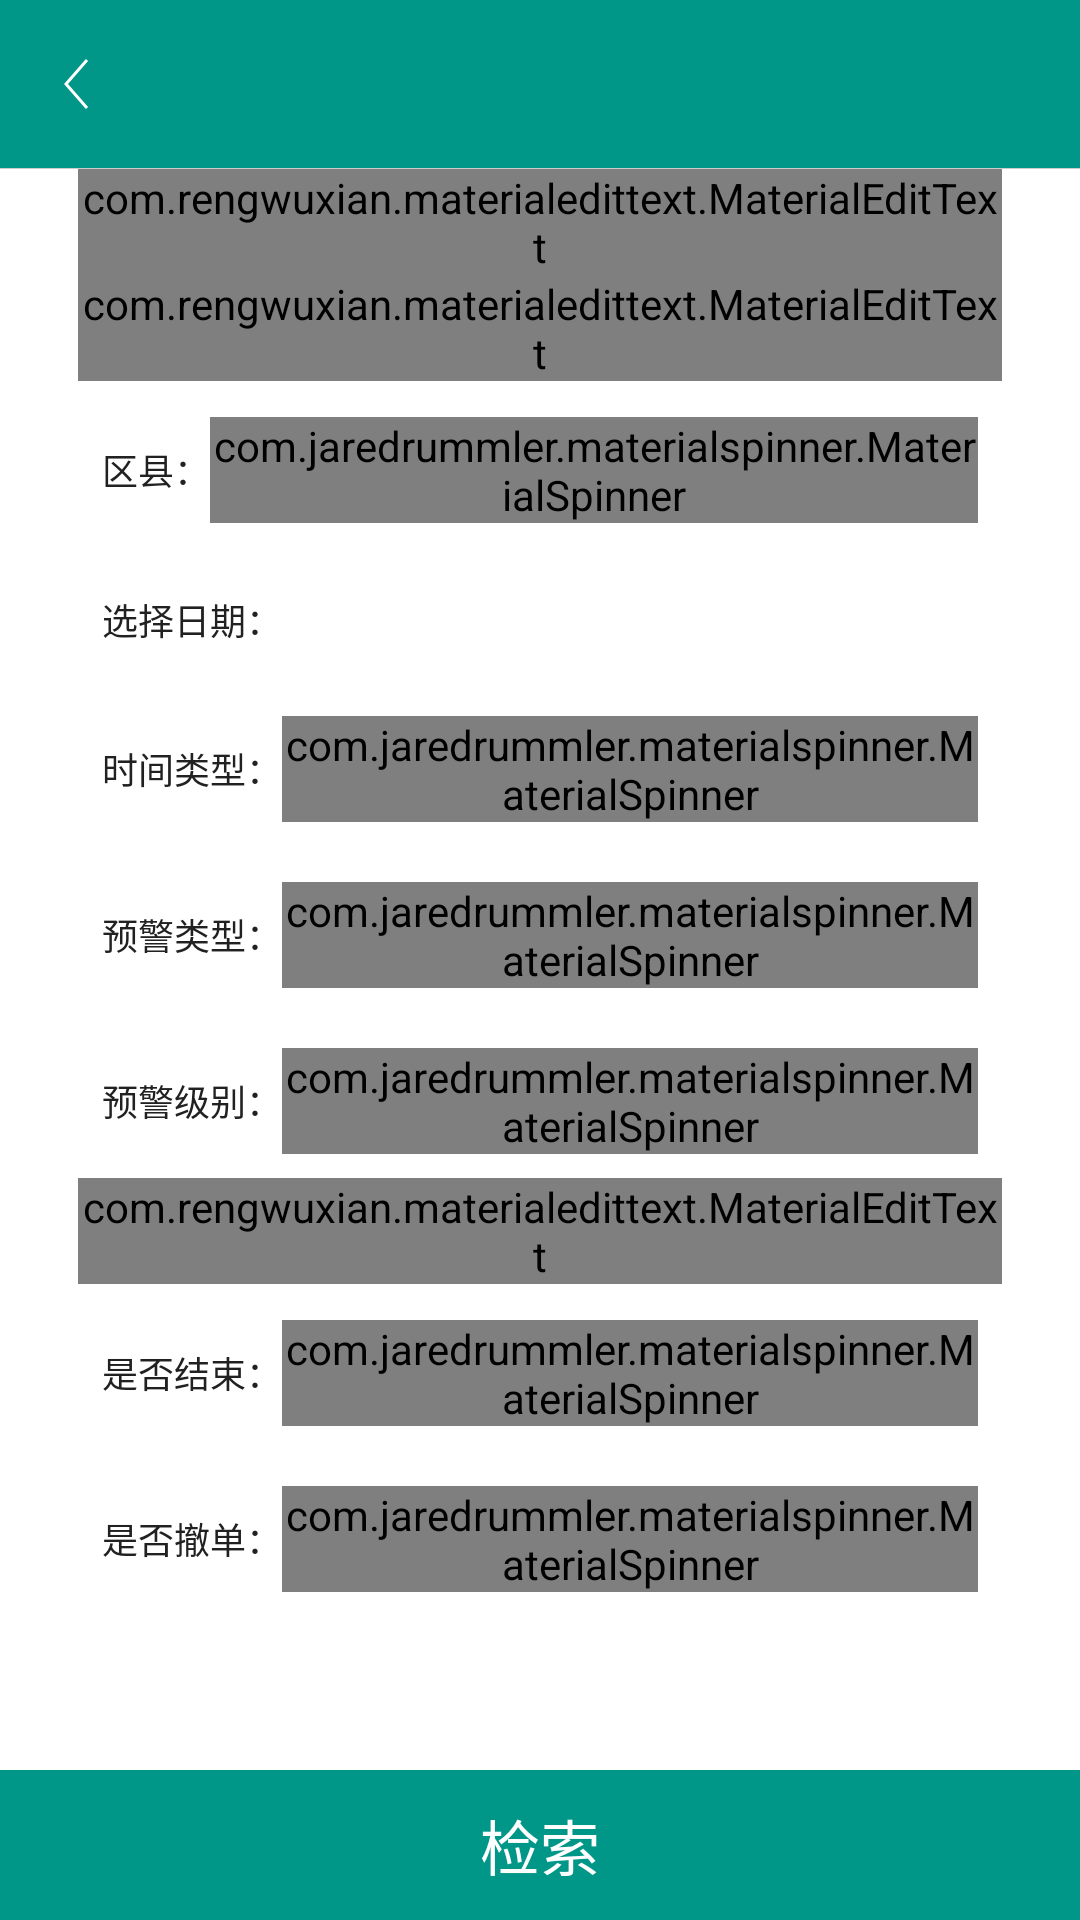

Named icons in this screenshot (1080×1920) and their centers, (x,y):
title back: (76,84)
